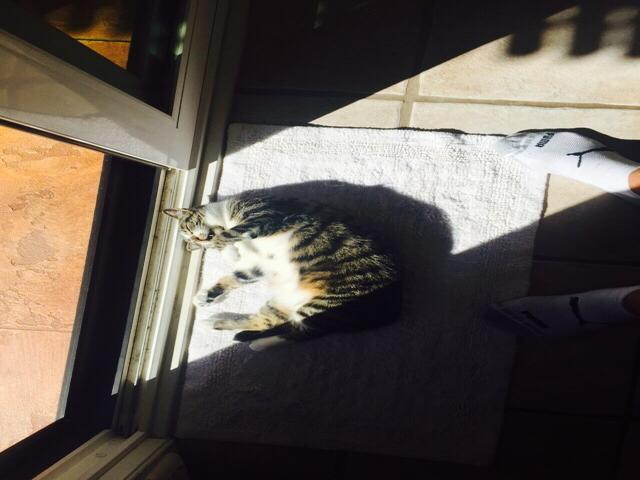playdoh: (163, 198, 400, 343)
